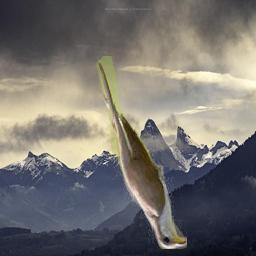Cuckoo: (95, 57, 188, 250)
